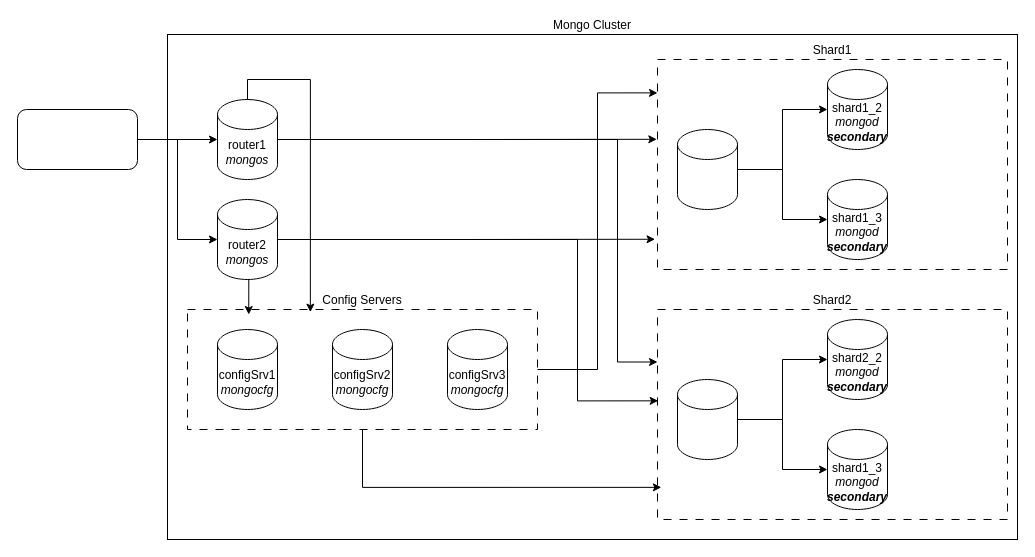
Image size: 1035x557. Some labels were removed from this diagram. Each missing label, with the centre of its shape:
pymongo-api: point (77, 139)
shard1_1 mongod primary: point (707, 169)
shard2_1 mongod primary: point (707, 419)
